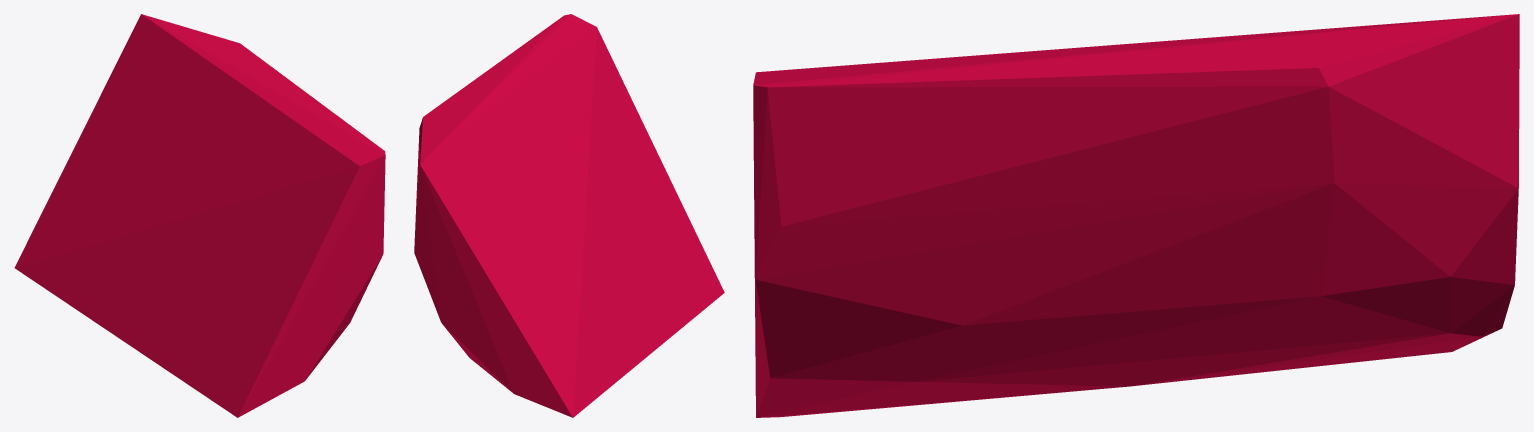
The model's file is shoulder-roll-housing-mirror_convex_piece_000.obj.
3 views of the same model, side by side, from view 1: azimuth 30°, elevation 25°; view 2: azimuth 150°, elevation 25°; view 3: azimuth 270°, elevation 25° (orthographic). The views are drawn at different scales.
Bounding box in the file's own units: 0.0432 × 0.0521 × 0.0764.
